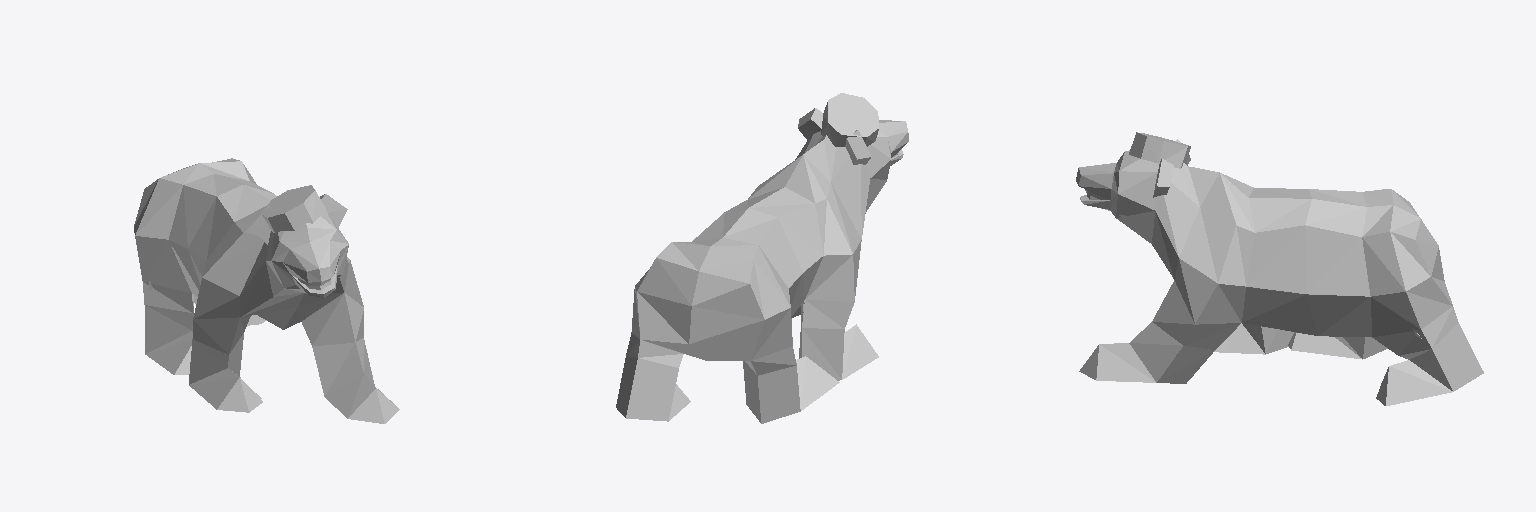
Rendered from Karhu_000001.obj.
3 renders of one model, left to right at view 1: azimuth 30°, elevation 25°; view 2: azimuth 150°, elevation 25°; view 3: azimuth 270°, elevation 25°, orthographic.
Parts seen in each view (by area): view 1: Karhu_Plane.003; view 2: Karhu_Plane.003; view 3: Karhu_Plane.003.
Boxes of the visible parts, x1=… form: Karhu_Plane.003: x1=134, y1=158, x2=399, y2=423; Karhu_Plane.003: x1=616, y1=93, x2=908, y2=423; Karhu_Plane.003: x1=1076, y1=132, x2=1483, y2=405.
Size of the model in its own units: 3.2 by 4.62 by 7.35.